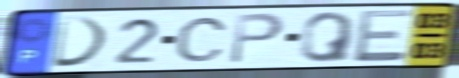2: (113, 17, 163, 66)
C: (174, 15, 231, 64)
D: (49, 15, 112, 70)
E: (352, 7, 415, 65)
P: (227, 11, 288, 66)
Q: (297, 10, 358, 65)
